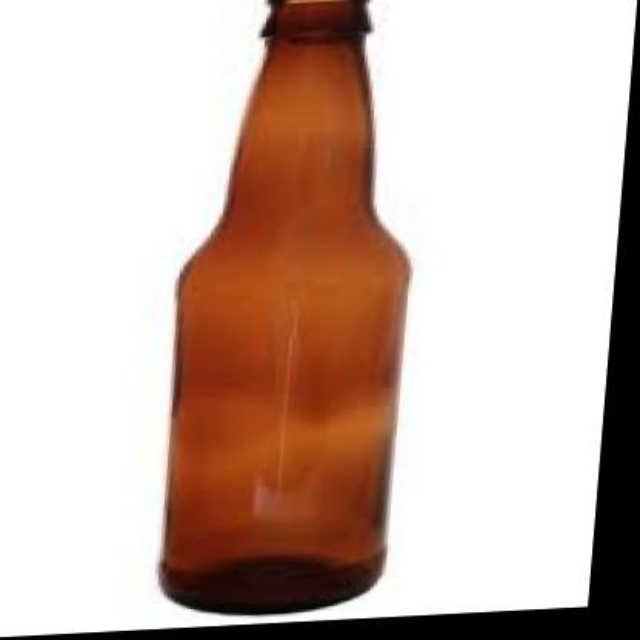trash: (160, 0, 408, 612)
